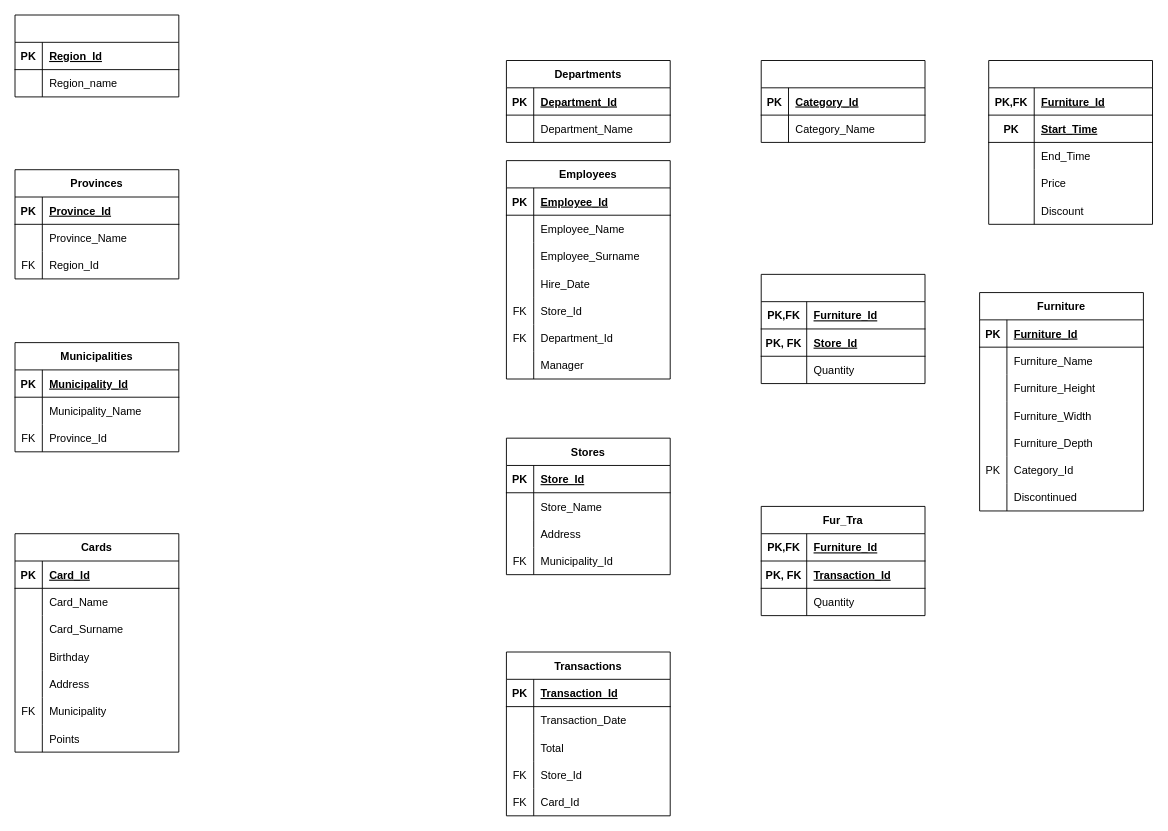
The diagram is 1168 pixels wide and 831 high, and some of its shapes have lost their labels. The shapes that lost their labels are listed below. From the top down, each one's box as (x1, y1, x2, y2) in pixels, then its label:
(14, 14, 179, 97): Regions
(760, 60, 925, 142): Categories
(988, 60, 1153, 224): Prices
(760, 273, 925, 384): Fur_Sto
